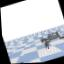drone: (38, 29, 64, 51)
